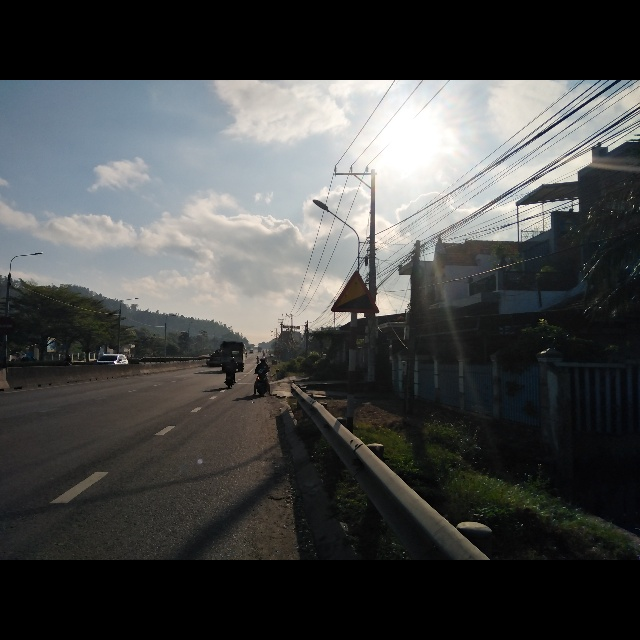Dốc lên nguy hiểm: (329, 268, 381, 313)
